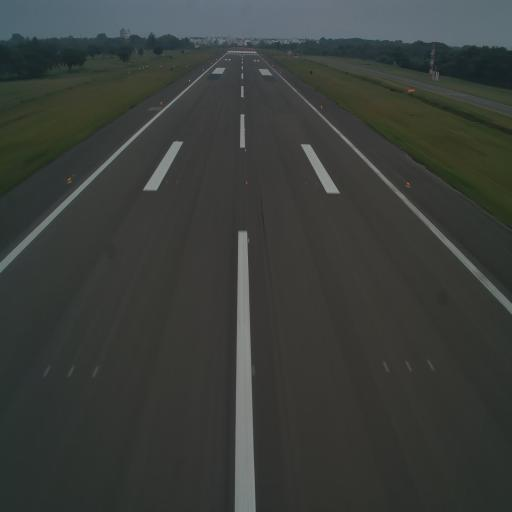off: (65, 362, 78, 384), (380, 358, 392, 380), (89, 360, 102, 380), (424, 354, 435, 376), (404, 358, 416, 378), (42, 362, 53, 382), (249, 361, 258, 382), (175, 176, 180, 186), (304, 181, 310, 189), (165, 176, 169, 186), (315, 181, 318, 188)
on: (405, 178, 411, 191), (66, 174, 73, 185), (245, 235, 252, 246), (242, 146, 248, 155), (244, 179, 249, 189)
